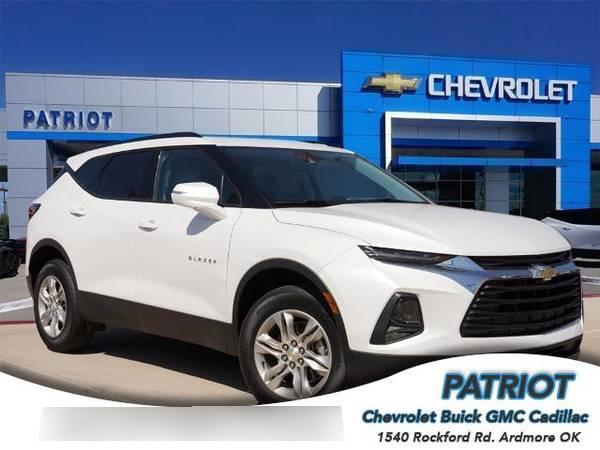Front_Bumper: (317, 248, 581, 368)
Front_Fender: (240, 211, 362, 285)
Front_Right_Door: (140, 201, 242, 350)
Front_Right_Window: (159, 145, 248, 209)
Front_Windshield: (225, 146, 430, 211)
Grille: (456, 245, 582, 335)
Hood: (274, 197, 571, 254)
Rear_Fender: (26, 155, 110, 261)
Rear_Right_Door: (60, 196, 152, 328)
Rear_Right_Window: (89, 149, 166, 205)
Right_Headlight: (359, 241, 457, 267)
Roof: (74, 139, 360, 208)
Wheel: (235, 283, 345, 407), (32, 260, 82, 350)
